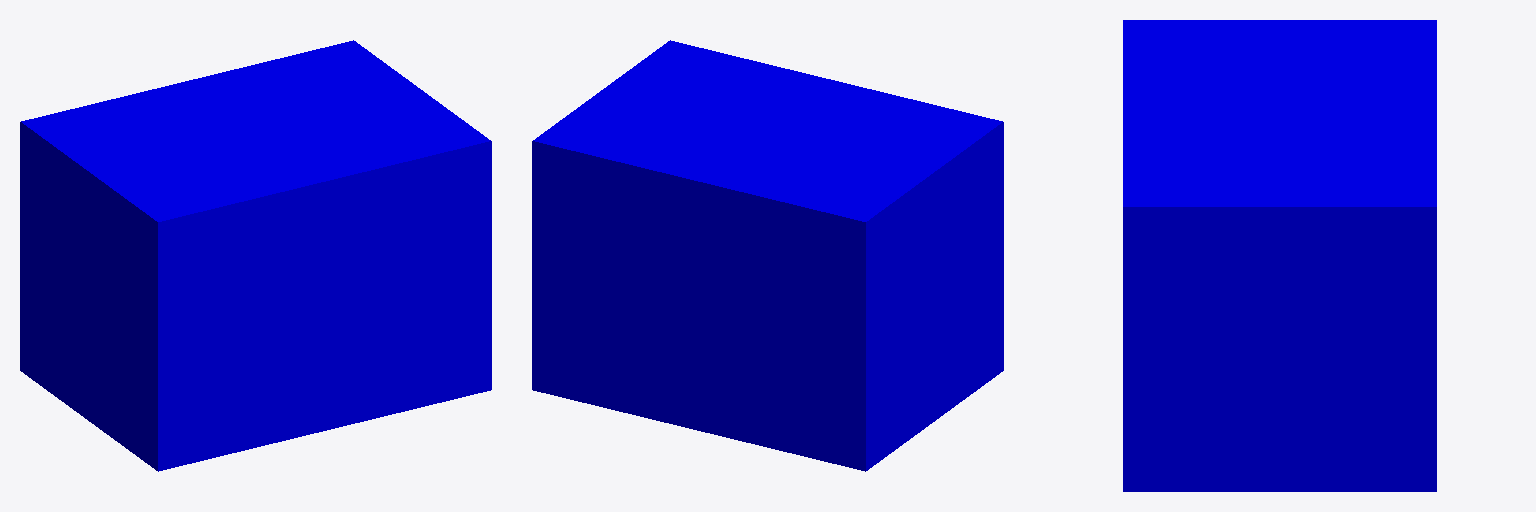
robot.urdf — block_blue:
<?xml version="1.0"?>
<robot name="block_blue">
  <link name="base_link">
    <contact>
      <lateral_friction value="0.7"/>
      <spinning_friction value="0.005"/>
    </contact>
    <inertial>
      <origin rpy="0 0 0" xyz="0 0 0"/>
      <mass value="1"/>
      <inertia ixx="1" ixy="0" ixz="0" iyy="1" iyz="0" izz="1"/>
    </inertial>
    <visual>
      <origin rpy="0 0 0" xyz="0.0 0.0 0.0"/>
      <geometry>
        <box size="0.07 0.05 0.05"/>
      </geometry>
      <material name="blue">
        <color rgba="0 0 1 1"/>
      </material>
    </visual>
    <collision>
      <origin rpy="0 0 0" xyz="0.0 0.0 0.0"/>
      <geometry>
        <box size="0.07 0.05 0.05"/>
      </geometry>
    </collision>
  </link>
</robot>

--- Facts derived from the render (not from the file) ---
Views: 3 orthographic renders of the robot side by side, from view 1: azimuth 30°, elevation 25°; view 2: azimuth 150°, elevation 25°; view 3: azimuth 270°, elevation 25°.
Model block_blue with 1 links and 0 joints (none), rooted at base_link, posed all joints at 0.
Visible links, largest first — view 1: base_link; view 2: base_link; view 3: base_link.
Boxes of the visible links, <box> form: base_link: <box>20,40,491,471</box>; base_link: <box>532,40,1003,471</box>; base_link: <box>1123,20,1436,491</box>.
Size in the robot's own frame: 0.07 by 0.05 by 0.05 metres.
Geometry: primitives only (box / cylinder / sphere), no mesh files.
